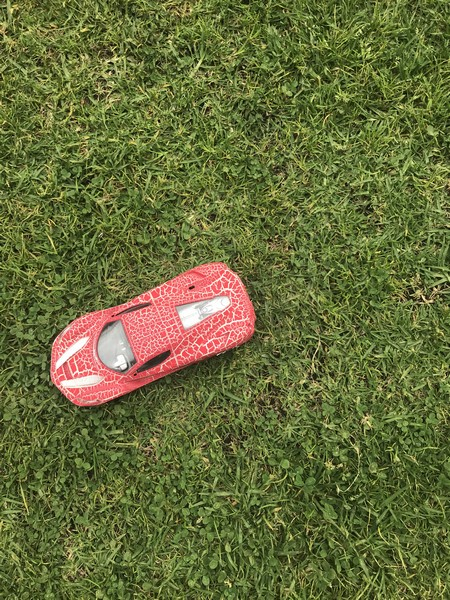RC: (46, 262, 257, 412)
